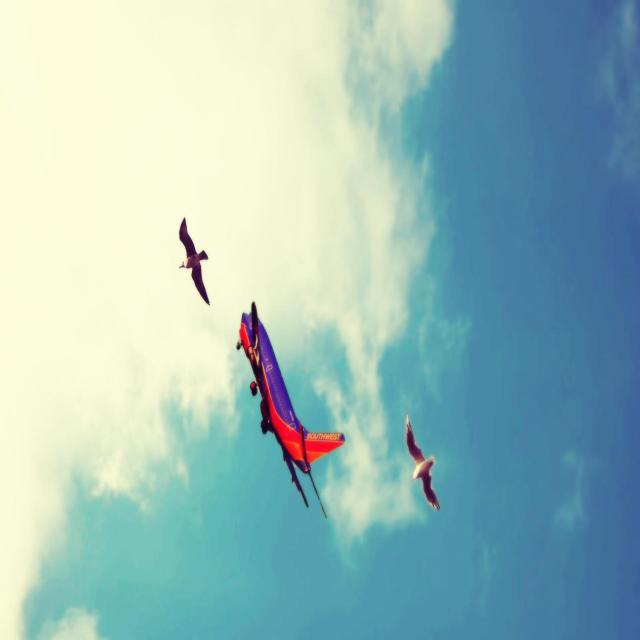airplane: (236, 300, 345, 518)
